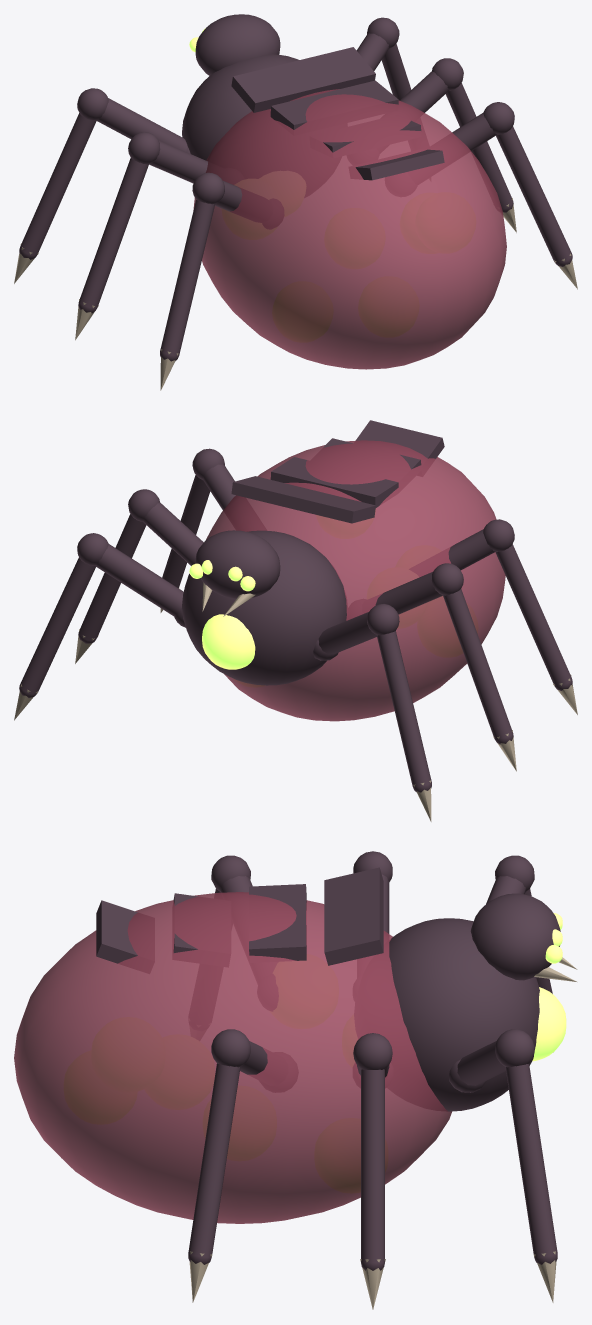
File: grafted-brood-broodmother.glb
The picture shows the model from 3 angles, top to bottom: view 1: azimuth 30°, elevation 25°; view 2: azimuth 150°, elevation 25°; view 3: azimuth 270°, elevation 25°; orthographic projection. The views are drawn at different scales.
Parts seen in each view (by area): view 1: egg_abdomen, dorsal_plate_1, thorax_shell, skull, leg_l_3_lower, leg_l_2_lower, leg_l_1_lower, leg_r_3_lower, dorsal_plate_2, leg_r_2_lower, leg_l_1_upper, dorsal_plate_4 (+12 smaller); view 2: egg_abdomen, thorax_shell, skull, leg_l_1_lower, dorsal_plate_1, leg_l_2_lower, leg_l_3_lower, leg_r_1_lower, leg_r_1_upper, brood_core, leg_r_2_lower, dorsal_plate_2 (+13 smaller); view 3: egg_abdomen, thorax_shell, skull, dorsal_plate_1, leg_r_1_lower, leg_r_3_lower, leg_r_2_lower, dorsal_plate_2, dorsal_plate_4, brood_core, leg_r_1_upper, leg_r_1_knee (+7 smaller).
Boxes of the visible parts, x1,y1,x2,y2 form: egg_abdomen: (193, 89, 506, 369); dorsal_plate_1: (231, 47, 375, 112); thorax_shell: (182, 54, 299, 160); skull: (195, 14, 280, 75); leg_l_3_lower: (160, 200, 215, 361); leg_l_2_lower: (78, 158, 148, 313); leg_l_1_lower: (19, 113, 96, 259); leg_r_3_lower: (496, 126, 572, 266); dorsal_plate_2: (270, 80, 398, 129); leg_r_2_lower: (445, 83, 513, 212); leg_l_1_upper: (96, 98, 187, 151); dorsal_plate_4: (355, 149, 444, 180); egg_abdomen: (206, 440, 505, 721); thorax_shell: (182, 530, 346, 685); skull: (195, 530, 280, 598); leg_l_1_lower: (376, 631, 431, 792); dorsal_plate_1: (231, 476, 375, 523); leg_l_2_lower: (443, 589, 513, 744); leg_l_3_lower: (495, 544, 572, 690); leg_r_1_lower: (19, 557, 95, 697); leg_r_1_upper: (95, 544, 183, 616); brood_core: (202, 614, 255, 669); leg_r_2_lower: (78, 514, 146, 643); dorsal_plate_2: (270, 457, 398, 507); egg_abdomen: (14, 892, 452, 1223); thorax_shell: (389, 918, 539, 1111); skull: (470, 893, 560, 980); dorsal_plate_1: (324, 867, 383, 965); leg_r_1_lower: (505, 1064, 557, 1264); leg_r_3_lower: (188, 1063, 240, 1264); leg_r_2_lower: (361, 1069, 384, 1270); dorsal_plate_2: (249, 884, 306, 960); dorsal_plate_4: (96, 900, 137, 963); brood_core: (532, 987, 566, 1061); leg_r_1_upper: (457, 1041, 505, 1085); leg_r_1_knee: (495, 1029, 534, 1067).
Size of the model in its own units: 3.3 by 1.77 by 2.97.
